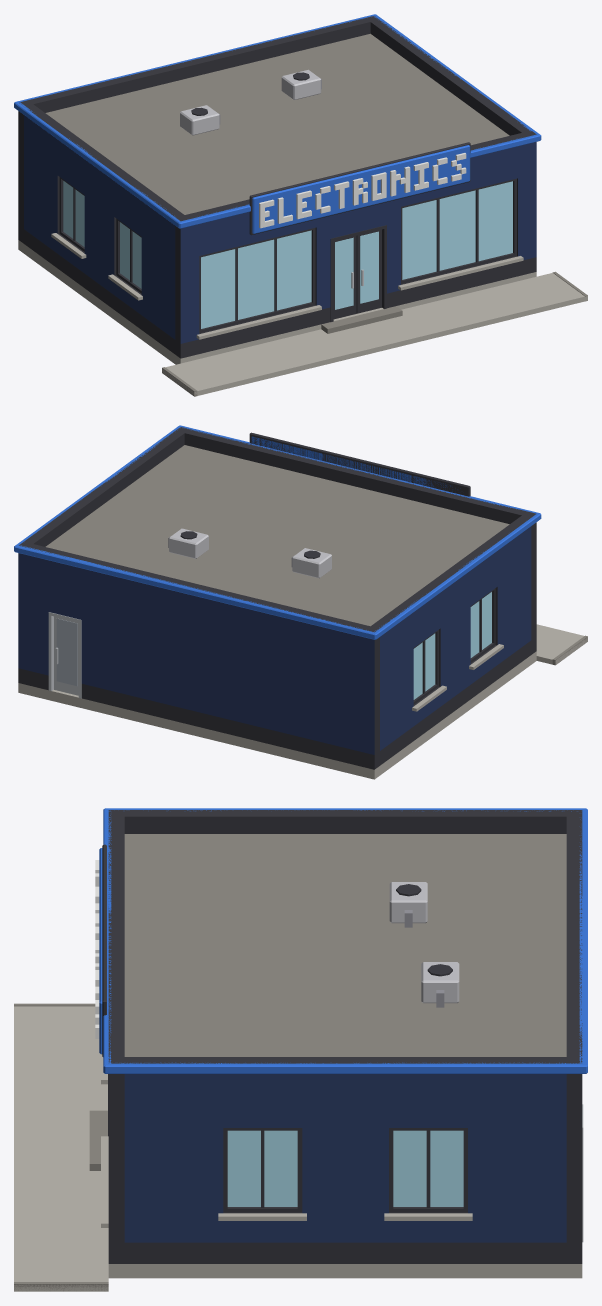
File: ElectronicsStore.fbx
The picture shows the model from 3 angles, top to bottom: view 1: azimuth 30°, elevation 25°; view 2: azimuth 150°, elevation 25°; view 3: azimuth 270°, elevation 25°; orthographic projection. The views are drawn at different scales.
Visible parts, largest first — view 1: ElectronicsStore, ElectronicsStore_Roof, ElectronicsStore_Glass, ElectronicsStore_Sign, ElectronicsStore_DoorR, ElectronicsStore_DoorL; view 2: ElectronicsStore, ElectronicsStore_Roof, ElectronicsStore_Sign, ElectronicsStore_Glass, ElectronicsStore_BackDoor; view 3: ElectronicsStore, ElectronicsStore_Roof, ElectronicsStore_Glass, ElectronicsStore_Sign.
Part boxes in pixels (x1=…): ElectronicsStore: x1=14, y1=14, x2=587, y2=396; ElectronicsStore_Roof: x1=45, y1=33, x2=509, y2=214; ElectronicsStore_Glass: x1=63, y1=181, x2=512, y2=328; ElectronicsStore_Sign: x1=249, y1=142, x2=470, y2=235; ElectronicsStore_DoorR: x1=356, y1=229, x2=381, y2=313; ElectronicsStore_DoorL: x1=333, y1=235, x2=356, y2=319; ElectronicsStore: x1=14, y1=425, x2=587, y2=779; ElectronicsStore_Roof: x1=45, y1=445, x2=509, y2=626; ElectronicsStore_Sign: x1=249, y1=432, x2=470, y2=496; ElectronicsStore_Glass: x1=413, y1=592, x2=491, y2=699; ElectronicsStore_BackDoor: x1=54, y1=616, x2=78, y2=695; ElectronicsStore: x1=14, y1=808, x2=587, y2=1291; ElectronicsStore_Roof: x1=124, y1=834, x2=566, y2=1056; ElectronicsStore_Glass: x1=227, y1=1130, x2=463, y2=1206; ElectronicsStore_Sign: x1=95, y1=844, x2=106, y2=1056.
Bounding box in the file's own units: 42 × 16 × 36.35.
Materials: 1 (1 with a texture image).
